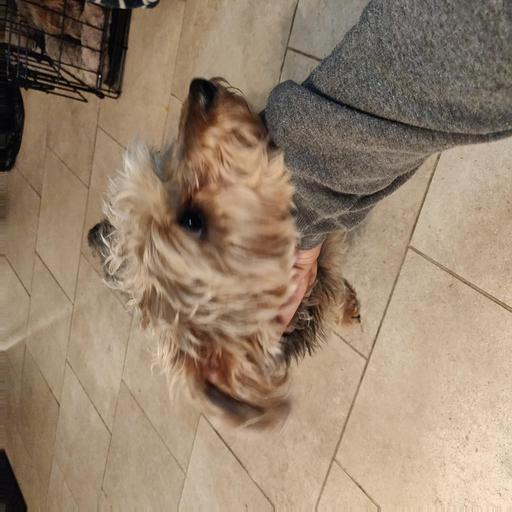dog: (85, 67, 334, 316)
